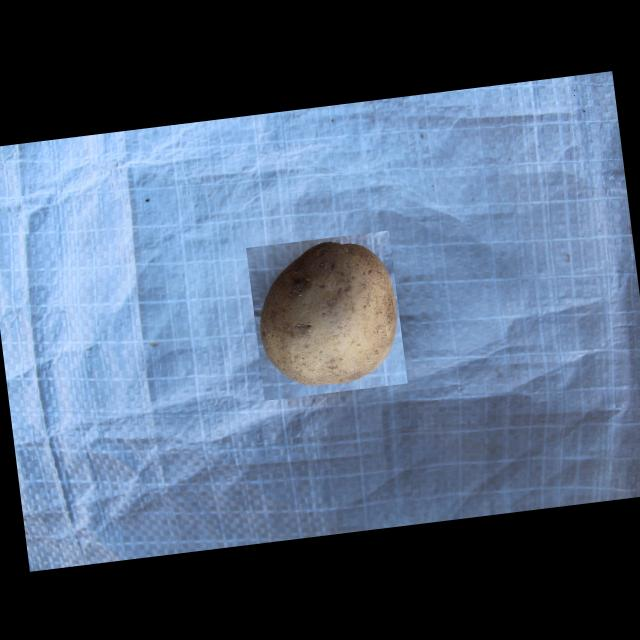Diseased-fungal potato: (244, 230, 406, 400)
